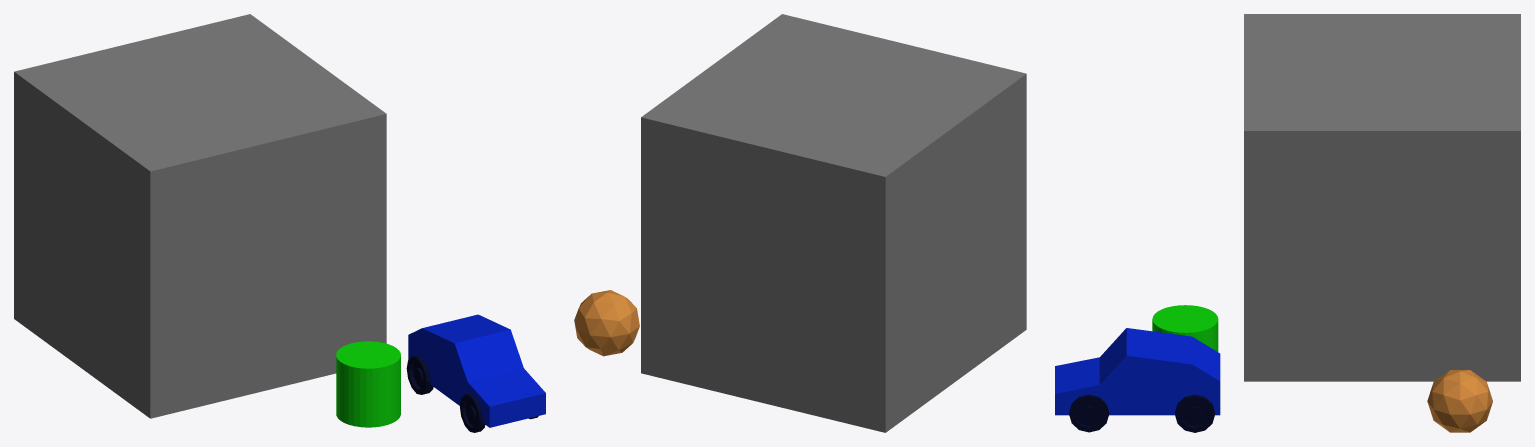
The model's file is CAR.fbx.
3 renders of one model, left to right at view 1: azimuth 30°, elevation 25°; view 2: azimuth 150°, elevation 25°; view 3: azimuth 270°, elevation 25°, orthographic. The views are drawn at different scales.
Visible parts, largest first — view 1: Cube, Car, Cylinder, Rear Wheel, Front Wheel; view 2: Cube, Icosphere; view 3: Cube, Car, Icosphere, Cylinder, Rear Wheel, Front Wheel.
Part boxes in pixels (bbox=[...]): Cube: bbox=[14, 14, 386, 418]; Car: bbox=[408, 314, 545, 427]; Cylinder: bbox=[336, 341, 400, 427]; Rear Wheel: bbox=[406, 355, 433, 394]; Front Wheel: bbox=[460, 394, 538, 432]; Cube: bbox=[641, 14, 1026, 432]; Icosphere: bbox=[574, 290, 639, 356]; Cube: bbox=[1244, 14, 1520, 381]; Car: bbox=[1055, 328, 1220, 415]; Icosphere: bbox=[1427, 370, 1492, 432]; Cylinder: bbox=[1152, 305, 1218, 351]; Rear Wheel: bbox=[1175, 394, 1214, 432]; Front Wheel: bbox=[1069, 394, 1109, 432].
Size of the model in its own units: 1158 by 1414 by 908.
